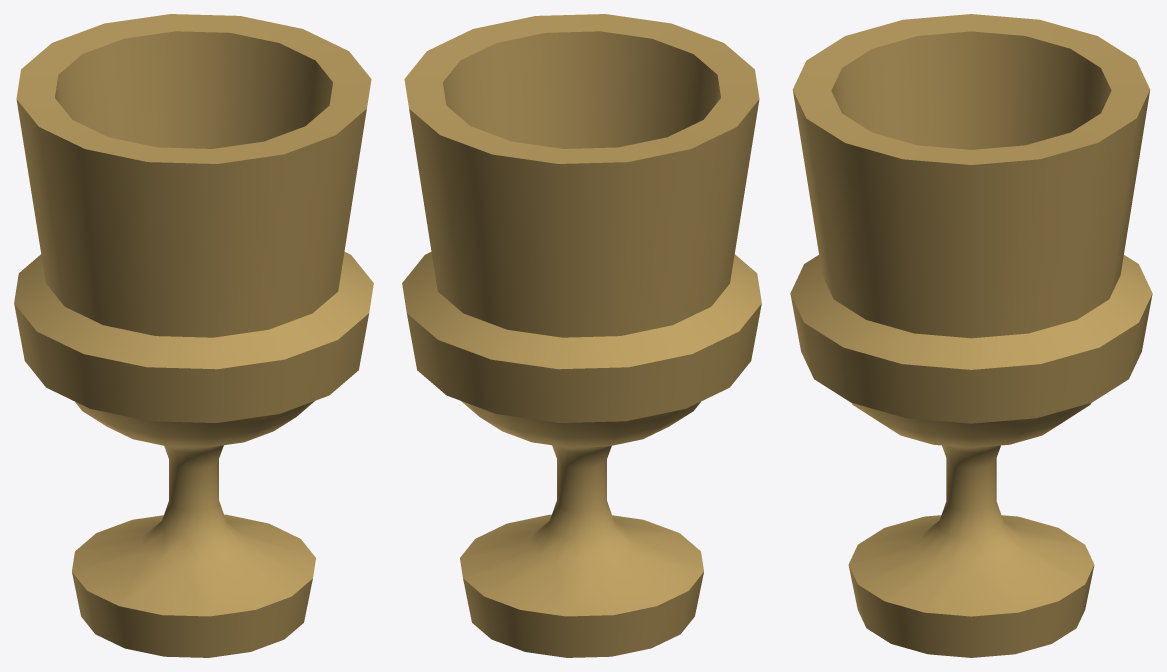
Rendered from goblet.gltf.glb.
The picture shows the model from 3 angles, left to right: view 1: azimuth 30°, elevation 25°; view 2: azimuth 150°, elevation 25°; view 3: azimuth 270°, elevation 25°; orthographic projection.
Visible parts, largest first — view 1: goblet; view 2: goblet; view 3: goblet.
Boxes of the visible parts, x1=… form: goblet: x1=14, y1=14, x2=373, y2=657; goblet: x1=402, y1=14, x2=761, y2=657; goblet: x1=790, y1=14, x2=1152, y2=657.
Size of the model in its own units: 0.345 by 0.5468 by 0.345.
